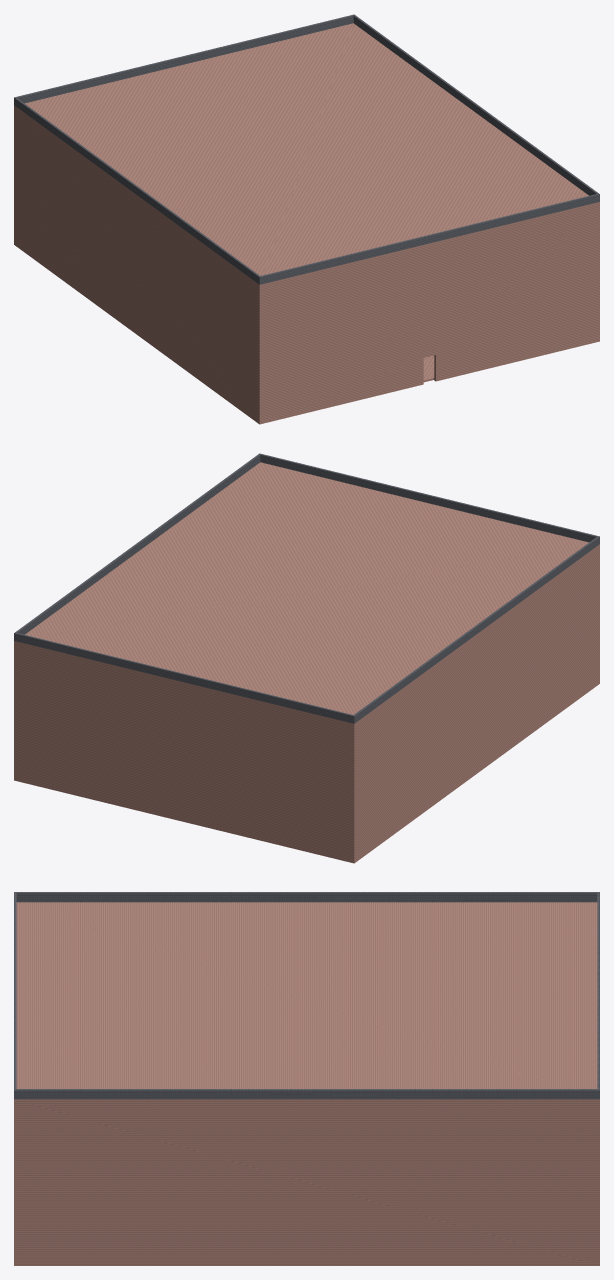
Rendered from courthouse.glb.
The picture shows the model from 3 angles, top to bottom: view 1: azimuth 30°, elevation 25°; view 2: azimuth 150°, elevation 25°; view 3: azimuth 270°, elevation 25°; orthographic projection. The views are drawn at different scales.
Visible parts, largest first — view 1: courthouse-col; view 2: courthouse-col; view 3: courthouse-col.
Boxes of the visible parts, x1,y1,x2,y2 form: courthouse-col: [14, 14, 599, 424]; courthouse-col: [14, 453, 599, 863]; courthouse-col: [14, 892, 599, 1265].
Bounding box in the file's own units: 28 × 11.58 × 35.
2 materials, 2 textured.
